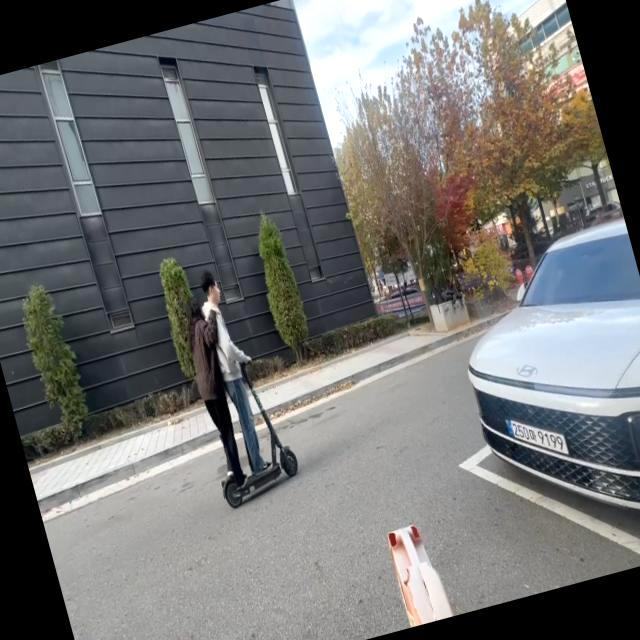bare_head: (202, 274, 225, 304), (179, 297, 204, 324)
human: (198, 273, 273, 473), (176, 293, 245, 486)
kickboard: (226, 443, 300, 519)
